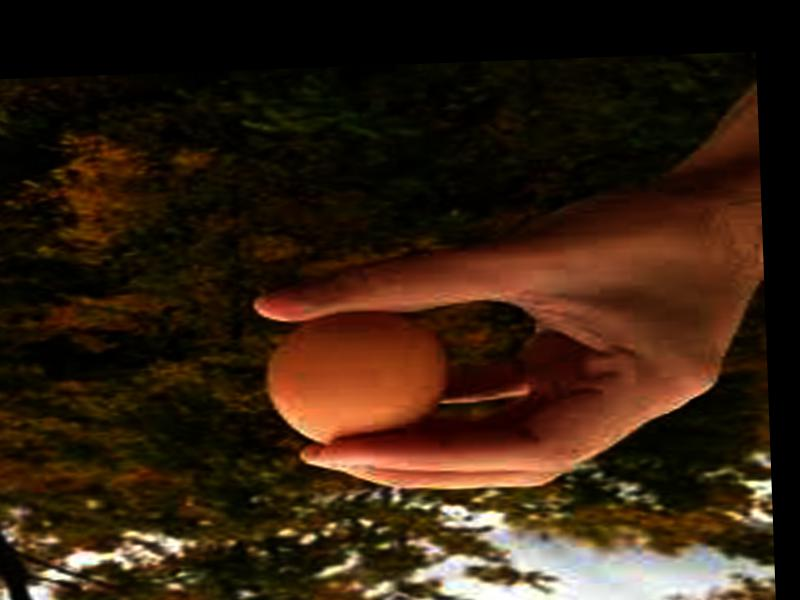Eggs: (265, 308, 447, 449)
